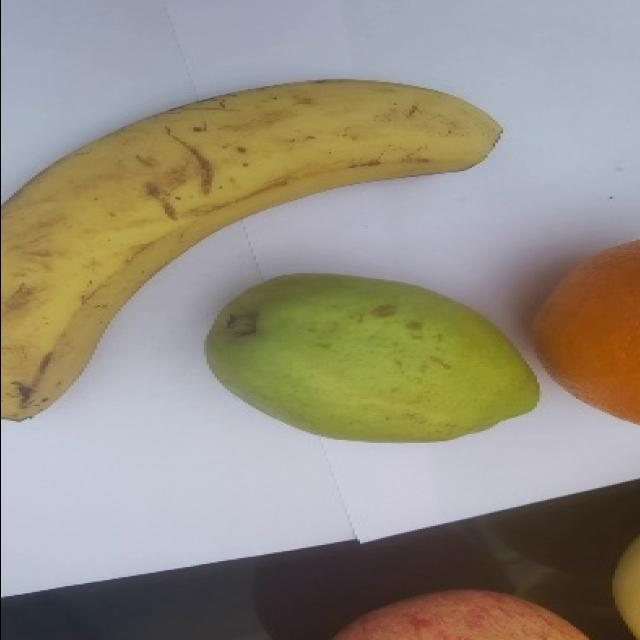Apple: (334, 586, 596, 640)
Banana: (0, 79, 502, 420)
Orange: (537, 233, 640, 430)
